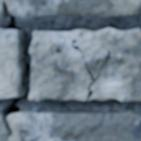brick: (29, 29, 140, 100), (0, 30, 24, 98)
broken_brick: (0, 110, 140, 140), (0, 0, 140, 18), (0, 111, 4, 116)
crack: (0, 2, 29, 138), (72, 38, 112, 101)
